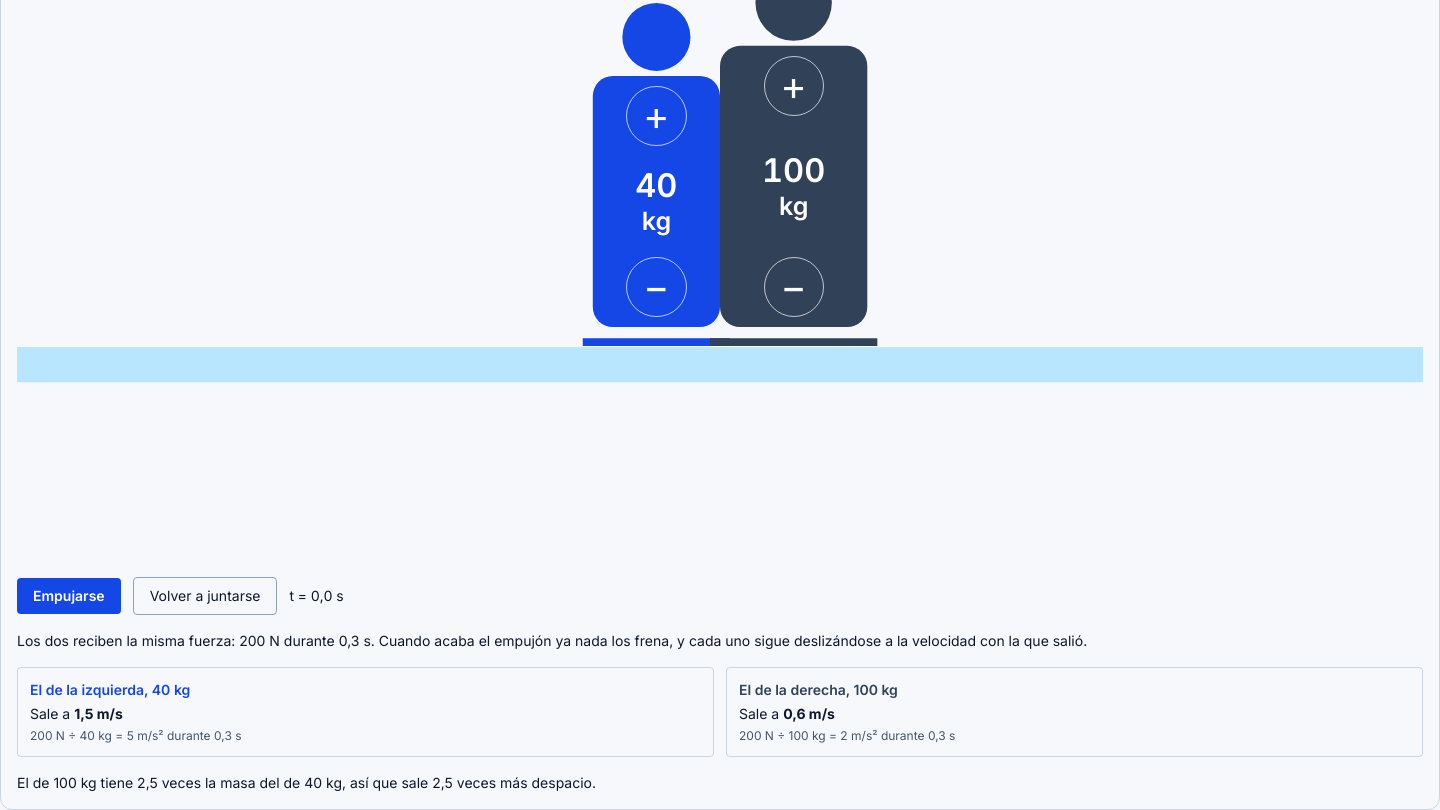
Test case: Skaters › brings them back together when a mass changes on the skater
(page scrolled)
Click the button "Empujarse" at (69, 596), box [17,578,121,614]
Wait 5000 ms
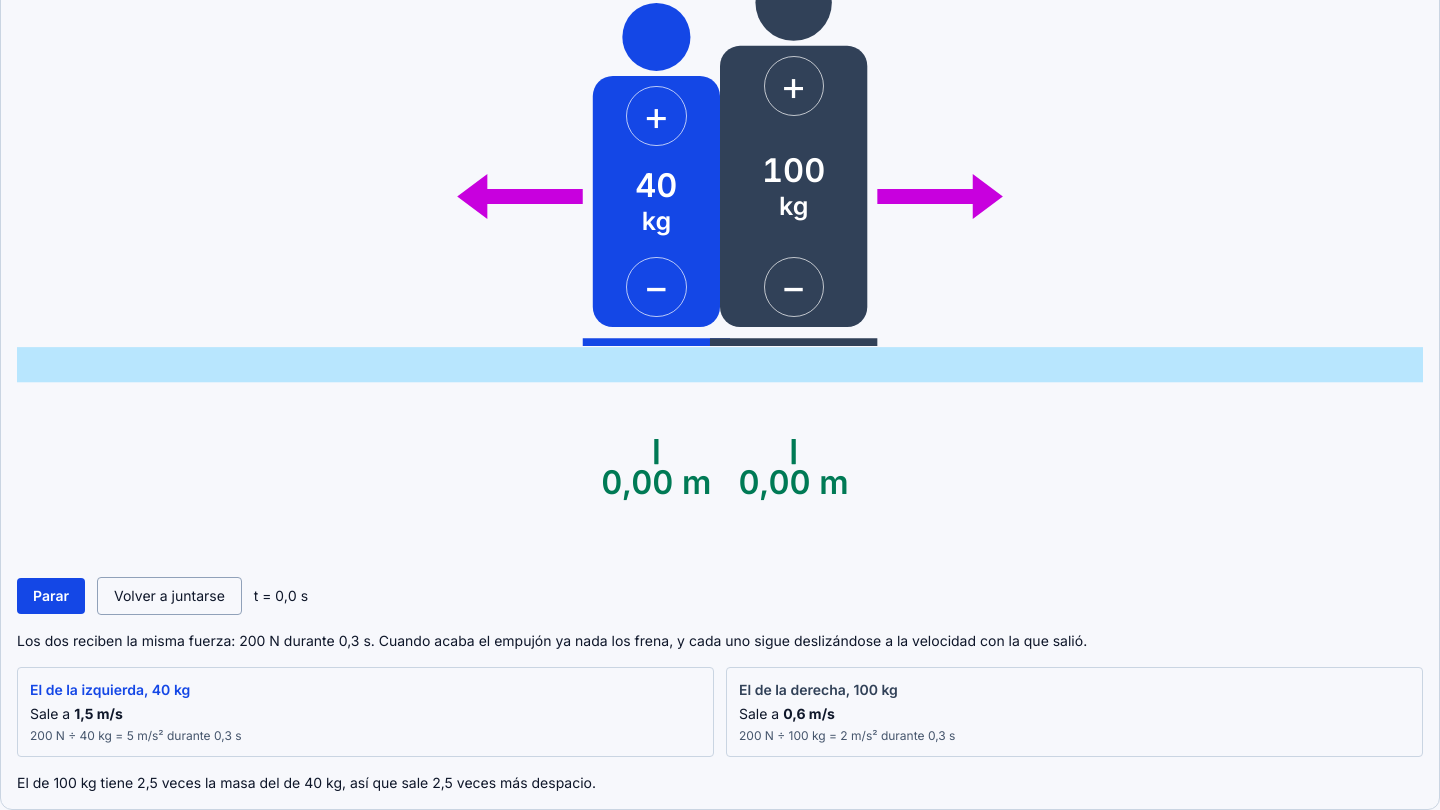
Click the button named "Más: Masa (izquierda)" at (656, 116), box [626,86,687,146]
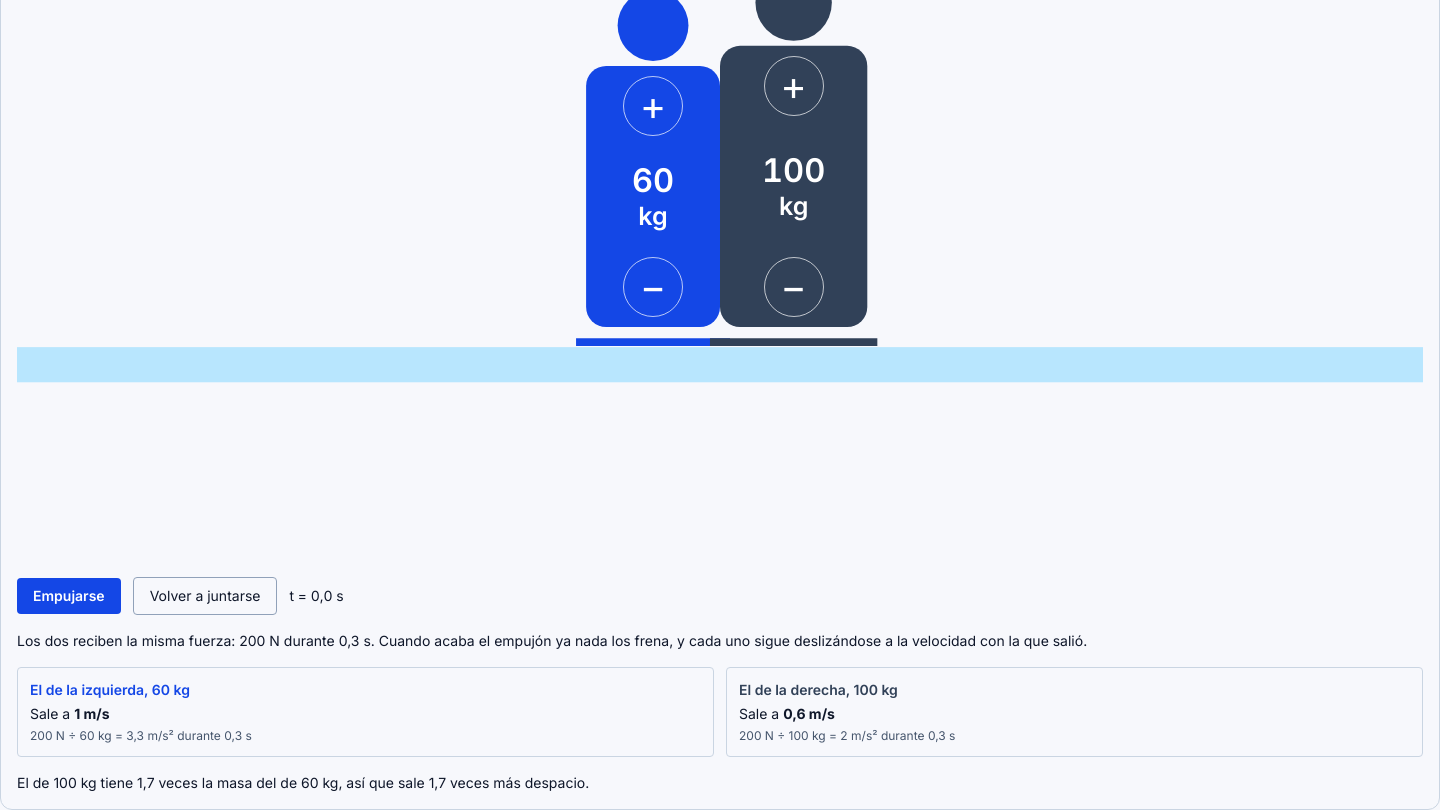
Expected: the text "t = 0,0 s" is shown, [290,586,344,606]
Expected: the text "El de la izquierda, 60 kg" is shown, [30,680,190,698]
Expected: the text "200 N ÷ 60 kg = 3,3 m/s²" is shown, [30,728,252,742]
